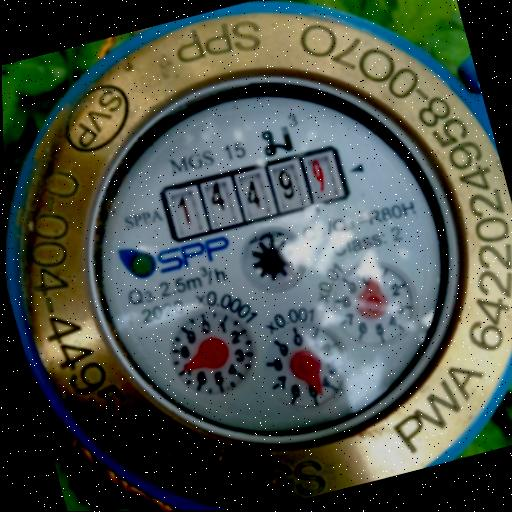1: (171, 191, 202, 235)
4: (239, 174, 270, 220), (205, 182, 235, 228)
9: (308, 157, 339, 200), (275, 166, 304, 209)
border_water_meter_number: (157, 142, 353, 245)
